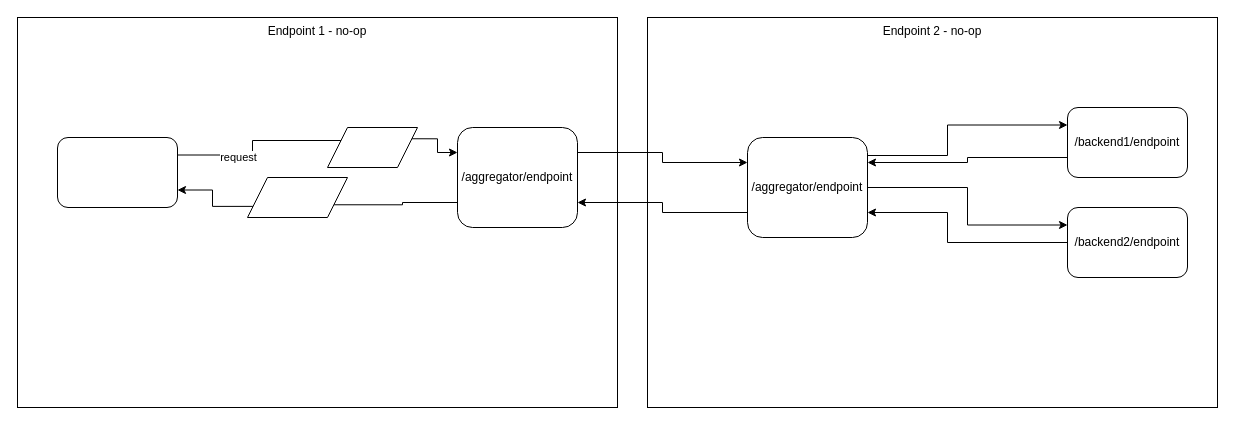
Some shapes in this 1235 by 425 pixel diagram are drawn without their labels. Here are the shapes that lost their labels. From the top down, the centre of each, then its label:
At point (372, 147): "http client".
At point (117, 172): "/main/endpoint".
At point (297, 197): "response modifier".
